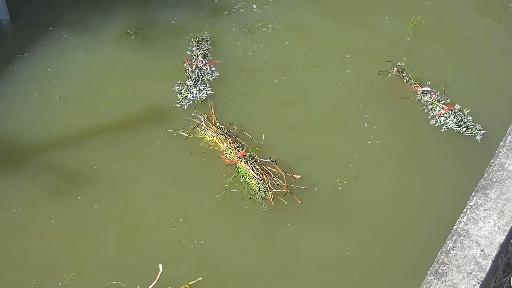leaf: (112, 25, 156, 43)
twig: (158, 116, 321, 219), (380, 12, 491, 150), (163, 25, 223, 105), (107, 270, 211, 288)
